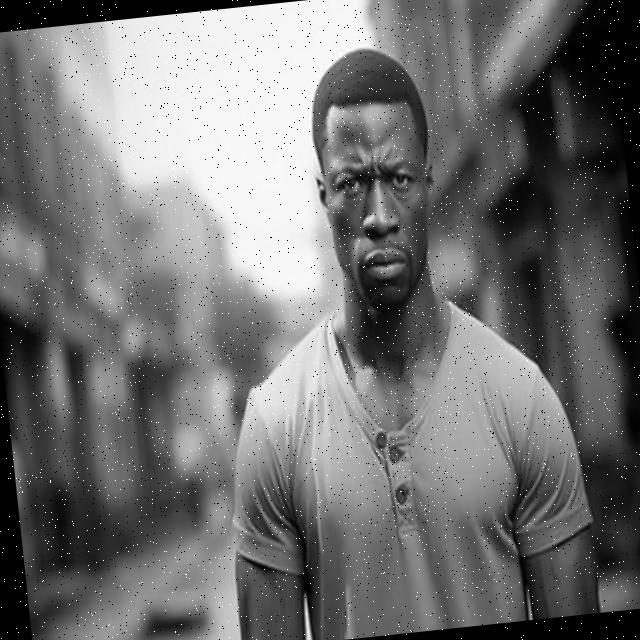Angry: (315, 101, 439, 315)
